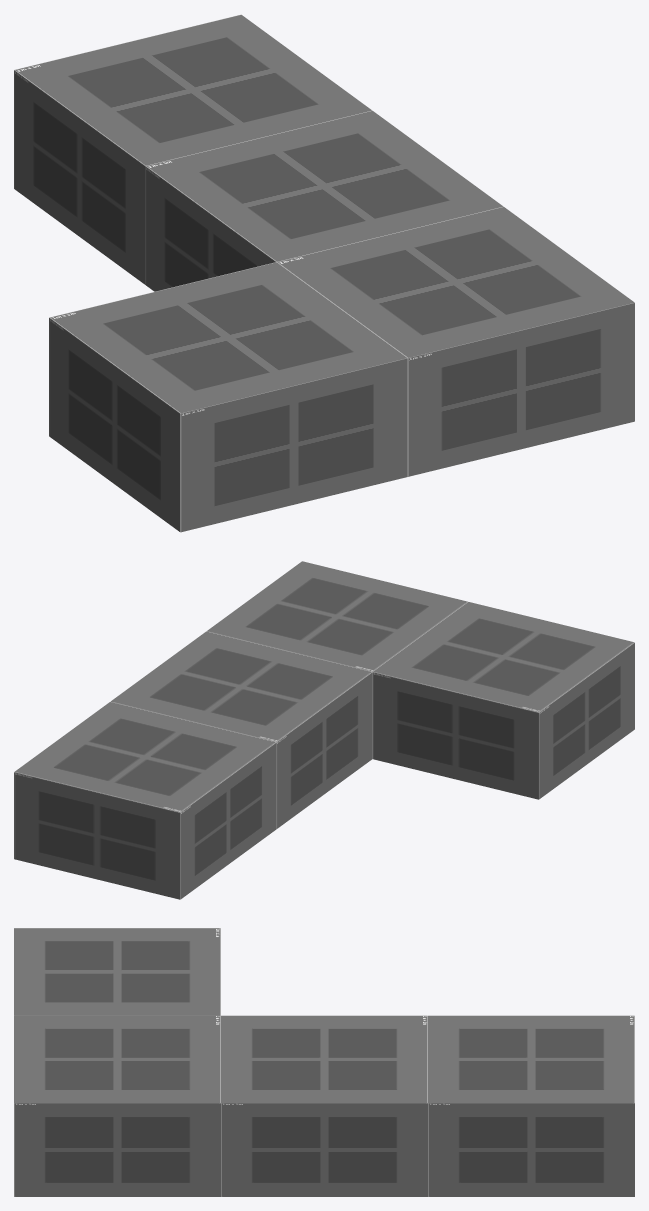
File: 3x2_LBend_Tile.FBX
3 renders of one model, top to bottom at view 1: azimuth 30°, elevation 25°; view 2: azimuth 150°, elevation 25°; view 3: azimuth 270°, elevation 25°, orthographic. The views are drawn at different scales.
Parts seen in each view (by area): view 1: Box004; view 2: Box004; view 3: Box004.
Boxes of the visible parts, left/top/right/bottom form: Box004: left=14, top=14, right=634, bottom=532; Box004: left=14, top=561, right=634, bottom=899; Box004: left=14, top=928, right=634, bottom=1196.
Size of the model in its own units: 200 by 50 by 300.
